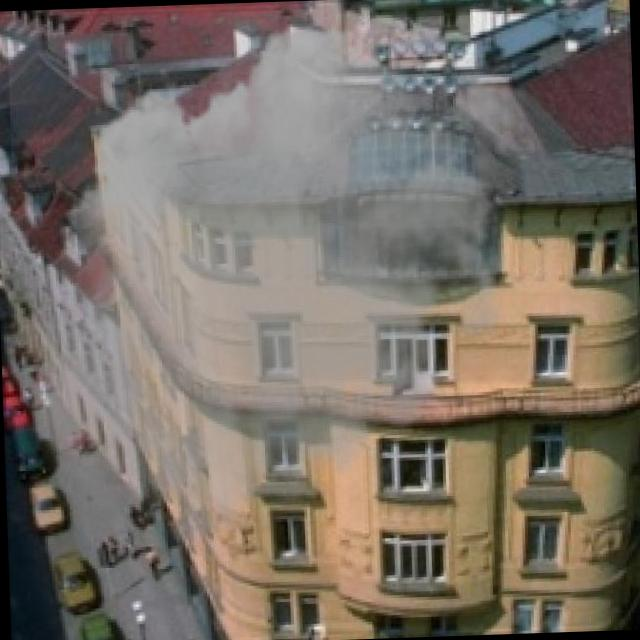Smoke: (6, 2, 545, 562)
